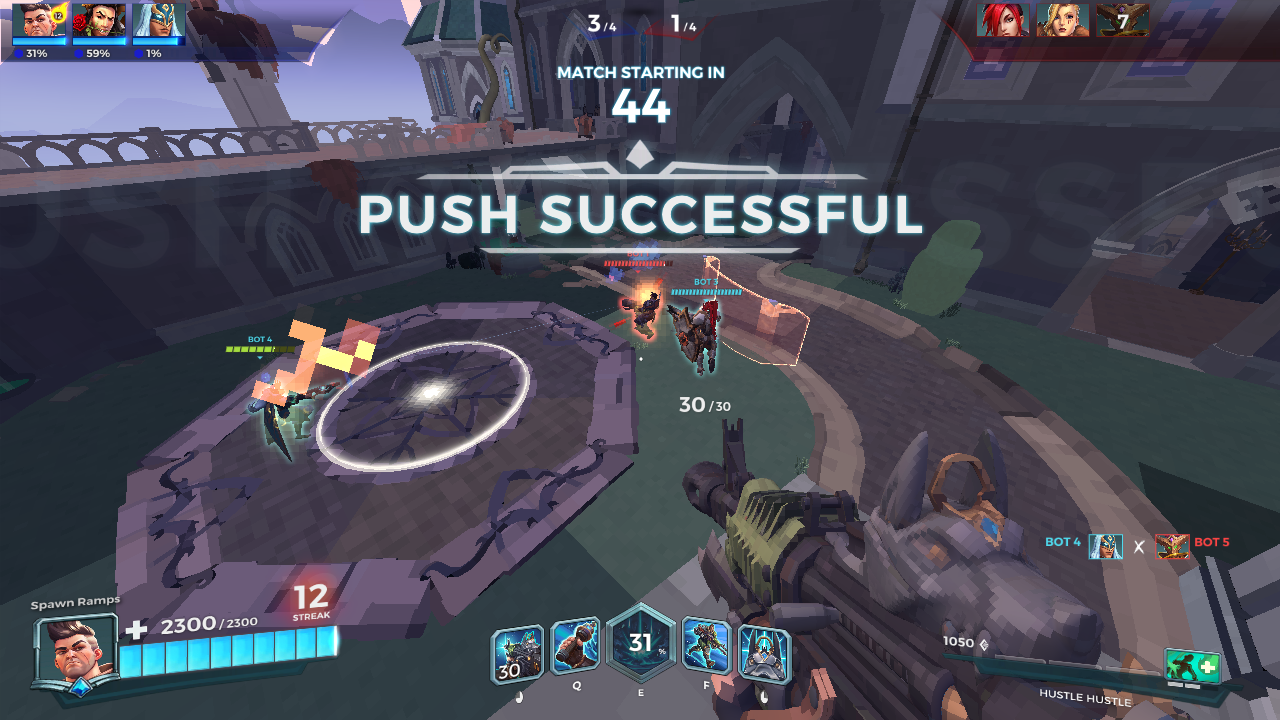model: (614, 287, 665, 343)
